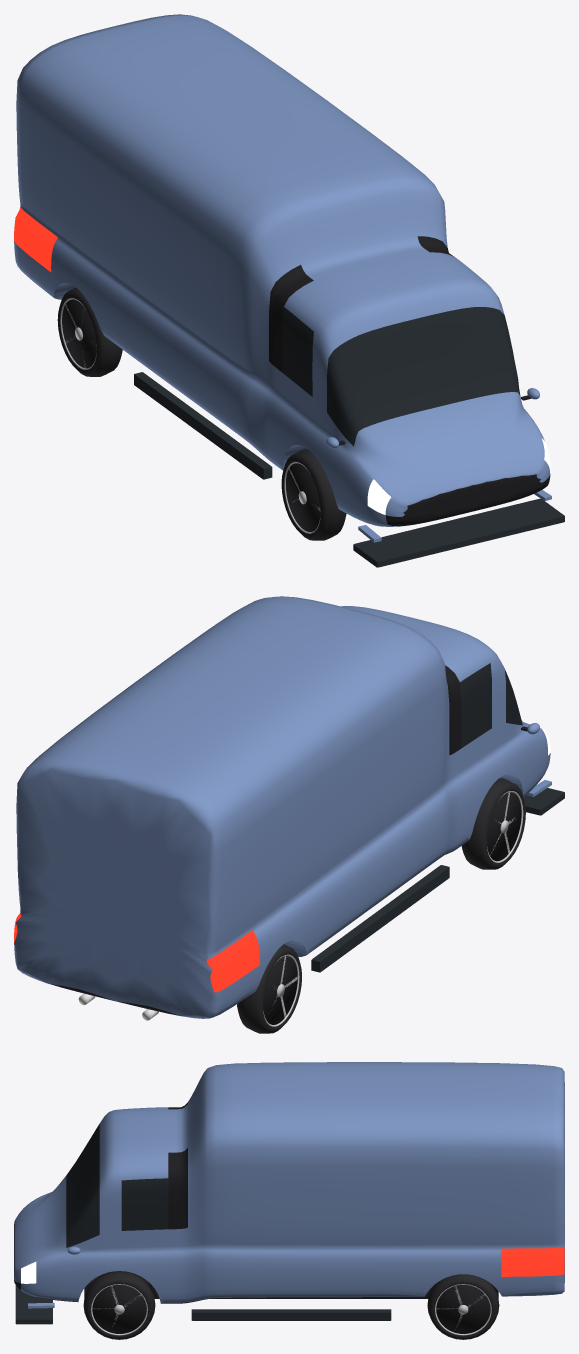
Rendered from traffic_truck.glb.
3 renders of one model, top to bottom at view 1: azimuth 30°, elevation 25°; view 2: azimuth 150°, elevation 25°; view 3: azimuth 270°, elevation 25°, orthographic. The views are drawn at different scales.
Parts seen in each view (by area): view 1: Body, WheelMesh_Wheel_Front_R, WheelMesh_Wheel_Rear_R; view 2: Body, WheelMesh_Wheel_Front_R, WheelMesh_Wheel_Rear_R; view 3: Body, WheelMesh_Wheel_Front_L, WheelMesh_Wheel_Rear_L.
Part boxes in pixels (x1,y1,x2,y2): Body: [14, 14, 564, 567]; WheelMesh_Wheel_Front_R: [281, 449, 346, 540]; WheelMesh_Wheel_Rear_R: [57, 287, 122, 376]; Body: [14, 596, 564, 1020]; WheelMesh_Wheel_Front_R: [461, 778, 525, 869]; WheelMesh_Wheel_Rear_R: [237, 944, 301, 1033]; Body: [14, 1062, 564, 1324]; WheelMesh_Wheel_Front_L: [83, 1271, 155, 1339]; WheelMesh_Wheel_Rear_L: [427, 1274, 499, 1339].
Size of the model in its own units: 2.39 by 3.1 by 7.05.
